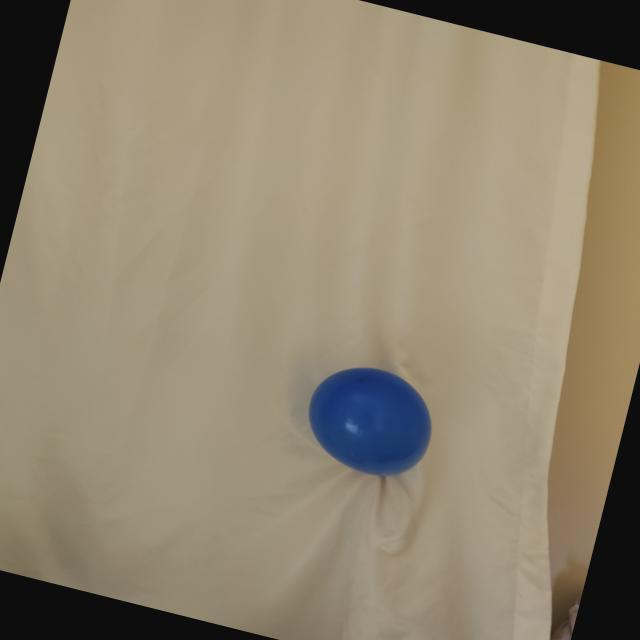balloon: (308, 367, 431, 476)
